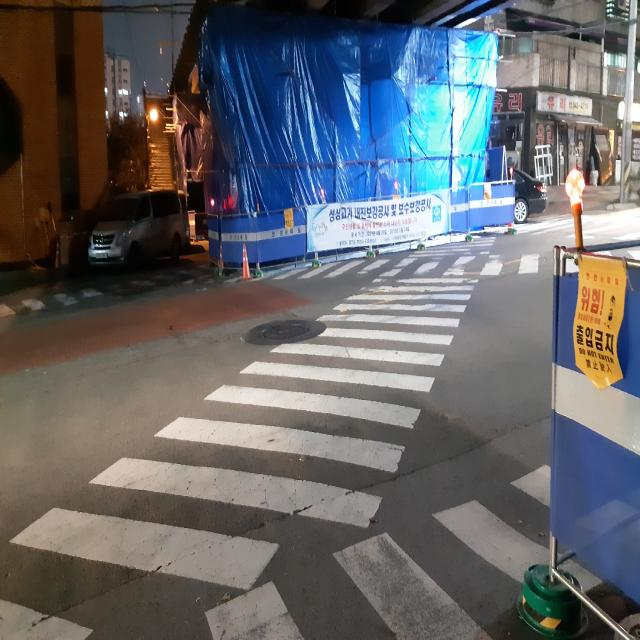횡단보도: (0, 234, 497, 640), (293, 260, 553, 276)
